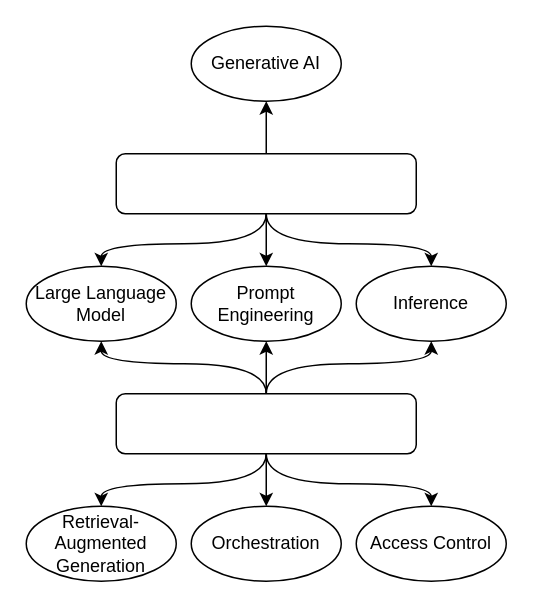
This 533x608 diagram has some shape labels left out. Each missing label, with the centre of its shape:
"AI Music Production" goes at pixel 265 183.
"AI-Powered Task Manager" goes at pixel 265 423.
